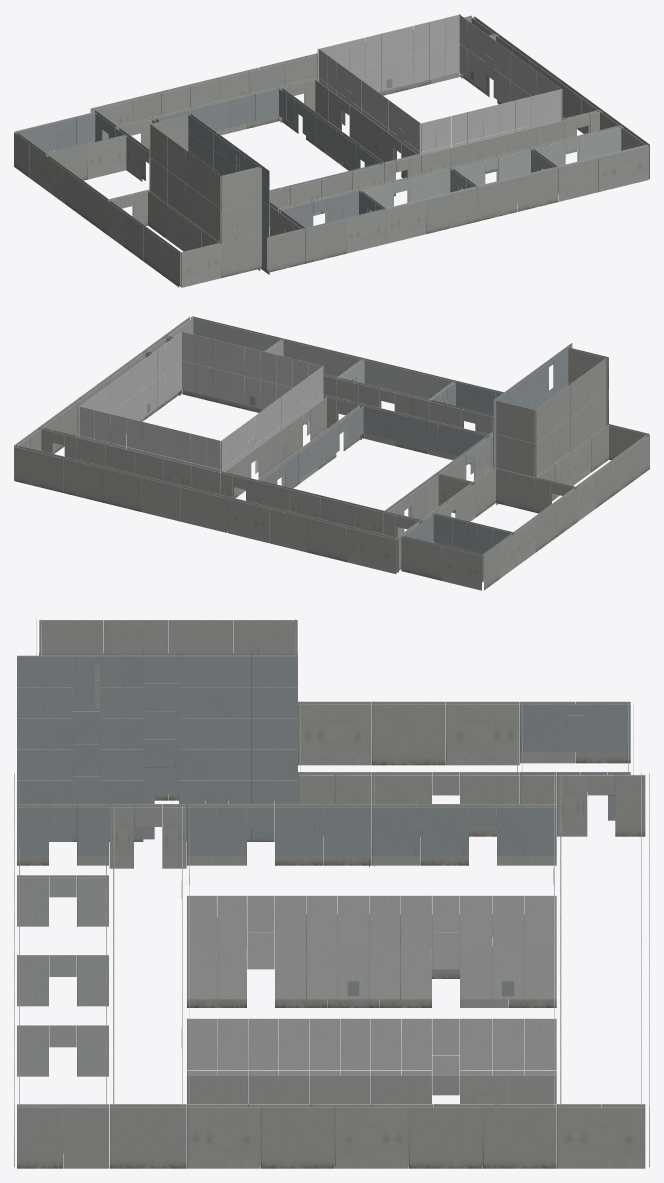
File: WC_B5_Walls.fbx
3 renders of one model, top to bottom at view 1: azimuth 30°, elevation 25°; view 2: azimuth 150°, elevation 25°; view 3: azimuth 270°, elevation 25°, orthographic. The views are drawn at different scales.
Parts seen in each view (by area): view 1: WS_B5_WS_Concrete_5_3, WS_B5_WS_Concrete_5_2, WS_B5_WS_Concrete_0_3, WS_B5_WS_Concrete_3_3, WS_B5_WS_Concrete_1_3, WS_B5_WS_Concrete_2_3, WS_B5_WS_Concrete_4_3, WS_B5_WS_Clean_0_0, WS_B5_WS_Concrete_2_0, WS_B5_WS_Concrete_5_0, WS_B5_WS_Clean_1_0, WS_B5_WS_Concrete_4_0 (+26 smaller); view 2: WS_B5_WS_Concrete_5_2, WS_B5_WS_Concrete_5_3, WS_B5_WS_Concrete_2_0, WS_B5_WS_Concrete_0_0, WS_B5_WS_Concrete_4_0, WS_B5_WS_Clean_0_2, WS_B5_WS_Concrete_5_0, WS_B5_WS_Concrete_1_0, WS_B5_WS_Clean_1_2, WS_B5_WS_Concrete_3_0, WS_B5_WS_Concrete_4_1, WS_B5_WS_Staff_2_3 (+26 smaller); view 3: WS_B5_WS_Steel_4_3, WS_B5_WS_Steel_4_2, WS_B5_WS_Clean_2_1, WS_B5_WS_Clean_2_2, WS_B5_WS_Concrete_0_1, WS_B5_WS_Concrete_0_0, WS_B5_WS_Concrete_0_2, WS_B5_WS_Concrete_0_3, WS_B5_WS_Concrete_5_2, WS_B5_WS_Concrete_5_1, WS_B5_WS_Clean_0_2, WS_B5_WS_Clean_0_1 (+17 smaller).
Part boxes in pixels (box(x1,y1,x2,y2)): WS_B5_WS_Concrete_5_3: box(143, 150, 261, 287); WS_B5_WS_Concrete_5_2: box(86, 114, 189, 260); WS_B5_WS_Concrete_0_3: box(507, 110, 649, 201); WS_B5_WS_Concrete_3_3: box(290, 172, 426, 253); WS_B5_WS_Concrete_1_3: box(450, 134, 557, 221); WS_B5_WS_Concrete_2_3: box(352, 148, 477, 233); WS_B5_WS_Concrete_4_3: box(266, 187, 345, 272); WS_B5_WS_Clean_0_0: box(413, 14, 476, 84); WS_B5_WS_Concrete_2_0: box(217, 55, 341, 133); WS_B5_WS_Concrete_5_0: box(14, 112, 127, 188); WS_B5_WS_Clean_1_0: box(349, 26, 412, 92); WS_B5_WS_Concrete_4_0: box(90, 87, 184, 181); WS_B5_WS_Concrete_5_2: box(494, 384, 613, 536); WS_B5_WS_Concrete_5_3: box(567, 347, 649, 495); WS_B5_WS_Concrete_2_0: box(173, 452, 289, 542); WS_B5_WS_Concrete_0_0: box(14, 412, 134, 502); WS_B5_WS_Concrete_4_0: box(308, 500, 451, 574); WS_B5_WS_Clean_0_2: box(140, 331, 228, 420); WS_B5_WS_Concrete_5_0: box(401, 513, 515, 590); WS_B5_WS_Concrete_1_0: box(85, 451, 191, 521); WS_B5_WS_Clean_1_2: box(228, 343, 292, 409); WS_B5_WS_Concrete_3_0: box(242, 489, 352, 552); WS_B5_WS_Concrete_4_1: box(404, 464, 482, 521); WS_B5_WS_Staff_2_3: box(324, 359, 454, 407); WS_B5_WS_Steel_4_3: box(17, 653, 182, 855); WS_B5_WS_Steel_4_2: box(179, 653, 332, 855); WS_B5_WS_Clean_2_1: box(338, 895, 491, 999); WS_B5_WS_Clean_2_2: box(187, 895, 337, 999); WS_B5_WS_Concrete_0_1: box(309, 1075, 494, 1168); WS_B5_WS_Concrete_0_0: box(460, 1023, 649, 1168); WS_B5_WS_Concrete_0_2: box(187, 1074, 334, 1168); WS_B5_WS_Concrete_0_3: box(14, 1023, 186, 1168); WS_B5_WS_Concrete_5_2: box(168, 619, 371, 800); WS_B5_WS_Concrete_5_1: box(372, 701, 519, 765); WS_B5_WS_Clean_0_2: box(187, 978, 339, 1075); WS_B5_WS_Clean_0_1: box(340, 1018, 491, 1075).
Size of the model in its own units: 5191 by 1109 by 3439.
